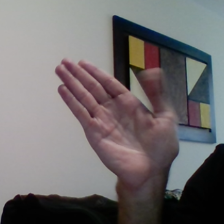left: (49, 45, 198, 192)
